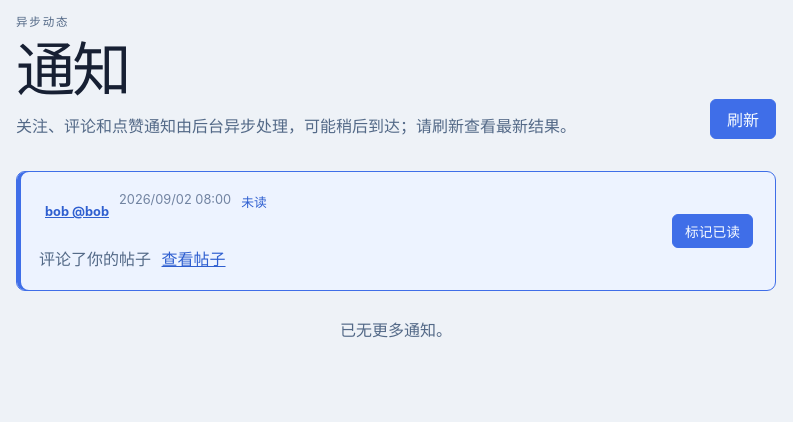
Scenario: NotificationsView › keeps an unread notification actionable after a mark-read failure
This screenshot has width=793, height=422.
Click the button "标记已读" at (712, 231), box [672,214,753,248]
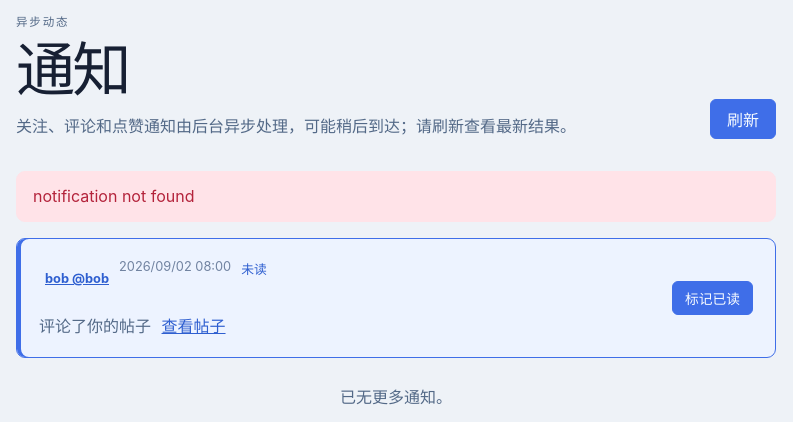
Expected: the button "标记已读" is enabled, [672,281,753,315]
Now the text "notification not found" is shown, box [16,171,776,222]
